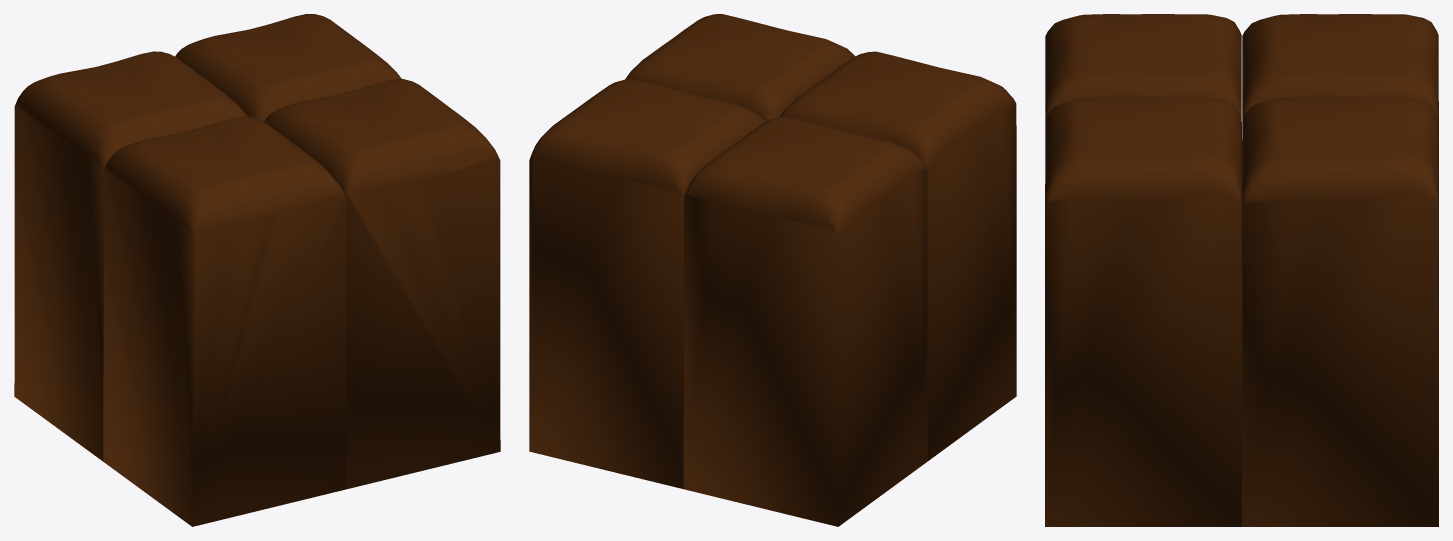
Rendered from browntiles_optimized.dae.
The picture shows the model from 3 angles, left to right: view 1: azimuth 30°, elevation 25°; view 2: azimuth 150°, elevation 25°; view 3: azimuth 270°, elevation 25°; orthographic projection. The views are drawn at different scales.
Visible parts, largest first — view 1: Cube; view 2: Cube; view 3: Cube.
Boxes of the visible parts, box(x1,y1,x2,y2) form: Cube: box(14, 14, 500, 526); Cube: box(529, 14, 1016, 526); Cube: box(1045, 14, 1438, 526).
Size of the model in its own units: 2 by 2 by 2.
